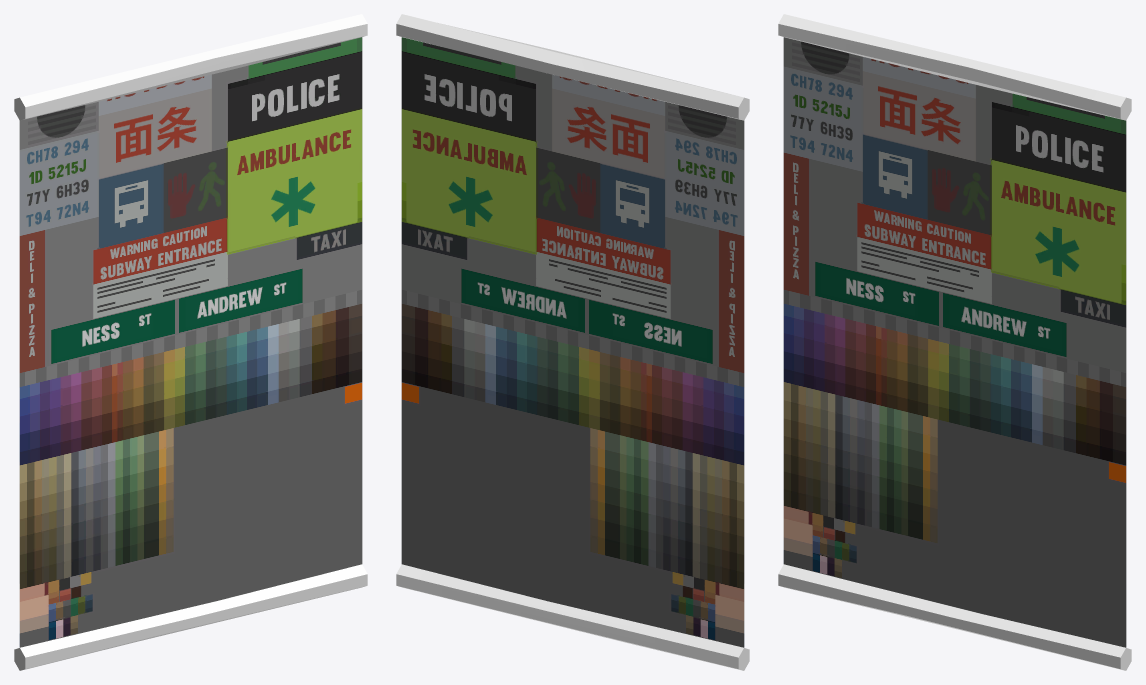
Rendered from SM_Bld_Fence_Half_01.obj.
The picture shows the model from 3 angles, left to right: view 1: azimuth 30°, elevation 25°; view 2: azimuth 150°, elevation 25°; view 3: azimuth 330°, elevation 25°; orthographic projection.
Visible parts, largest first — view 1: SM_Bld_Fence_Half_01_0, SM_Bld_Fence_Half_01_1; view 2: SM_Bld_Fence_Half_01_0, SM_Bld_Fence_Half_01_1; view 3: SM_Bld_Fence_Half_01_0, SM_Bld_Fence_Half_01_1.
Part boxes in pixels (x1,y1,x2,y2): SM_Bld_Fence_Half_01_0: (19,37,362,647); SM_Bld_Fence_Half_01_1: (14,14,367,670); SM_Bld_Fence_Half_01_0: (401,37,744,647); SM_Bld_Fence_Half_01_1: (396,14,749,670); SM_Bld_Fence_Half_01_0: (783,37,1126,647); SM_Bld_Fence_Half_01_1: (778,14,1131,670).
Bounding box in the file's own units: 1.25 × 2 × 0.0724.
2 materials, 1 textured.
